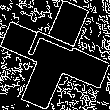L_SE: (26, 31, 84, 79)
